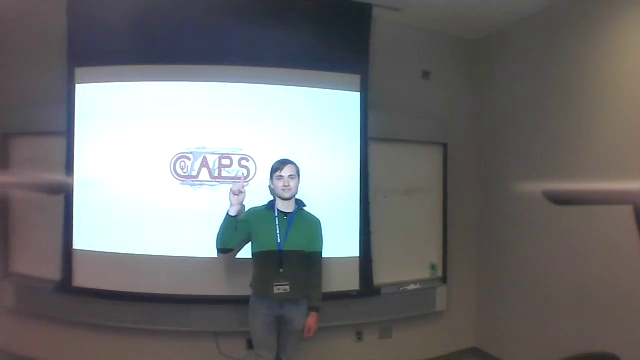up: (227, 172, 247, 205)
